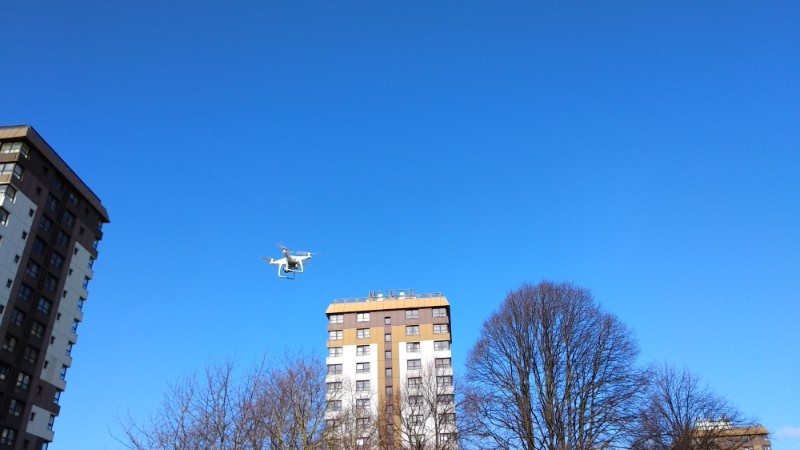drone: (260, 242, 319, 280)
